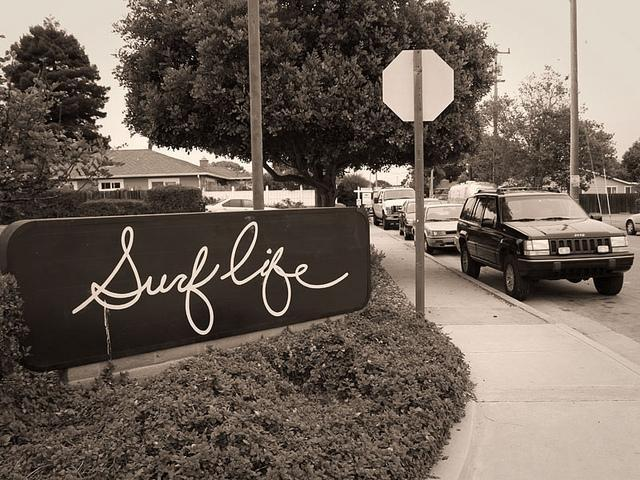car: (454, 186, 636, 300), (398, 197, 442, 240), (422, 205, 462, 248), (205, 198, 278, 212), (626, 213, 640, 235)
truck: (372, 188, 414, 230)
